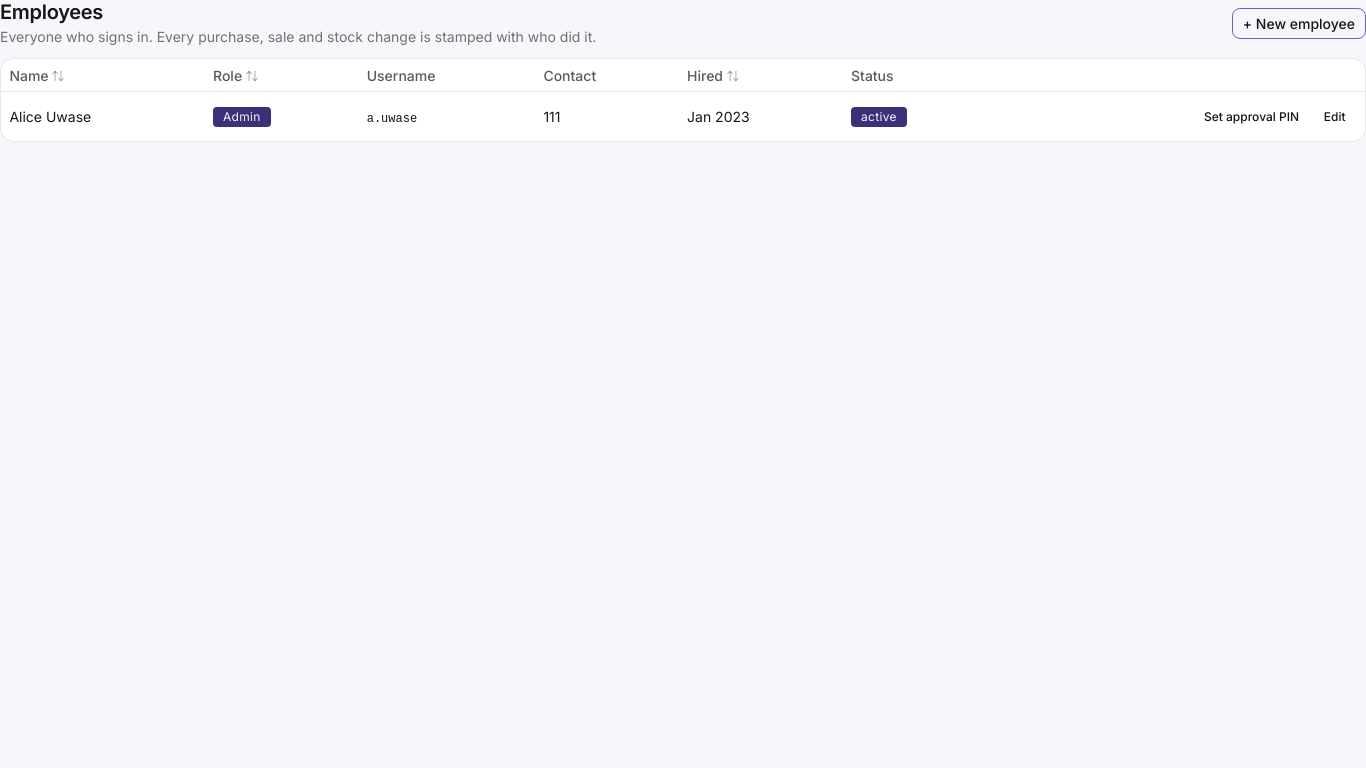
Test: EmployeesPageClient › opens the edit dialog pre-filled when Edit is clicked
Expected: the text "Alice Uwase" is shown, [1,92,205,141]
Step 1. Click the button "Edit" → (1335, 117), box [1313,102,1357,131]
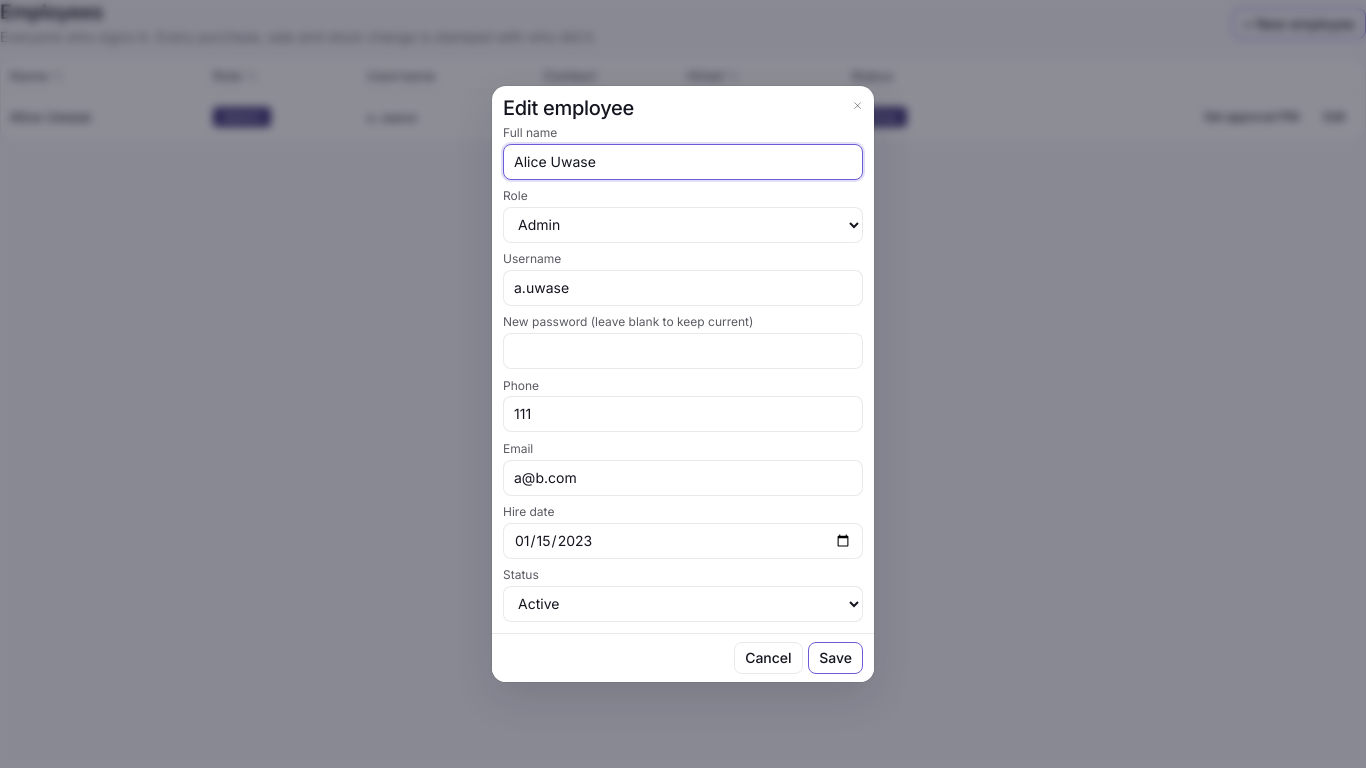
Expected: the field labelled "Full name" holds "Alice Uwase", [503,144,863,180]
